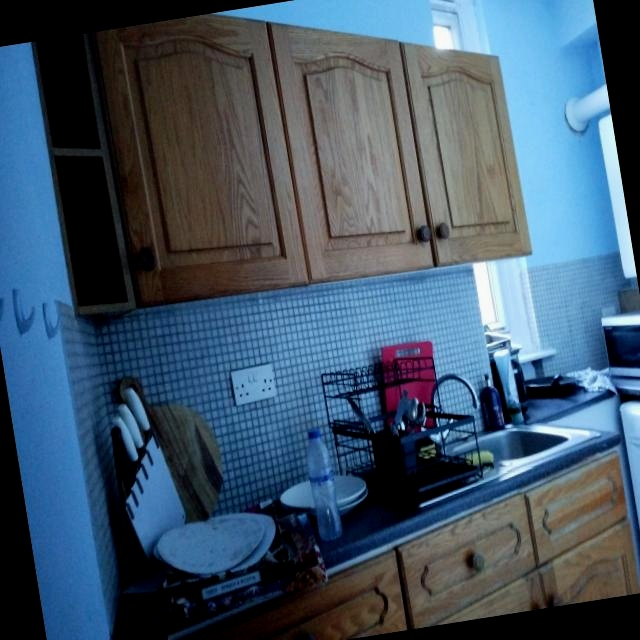countertop: (90, 14, 533, 310), (182, 447, 640, 640), (317, 430, 621, 581)
microwave: (602, 314, 640, 405)
pillow: (32, 33, 129, 314)
shower: (480, 427, 597, 471)
